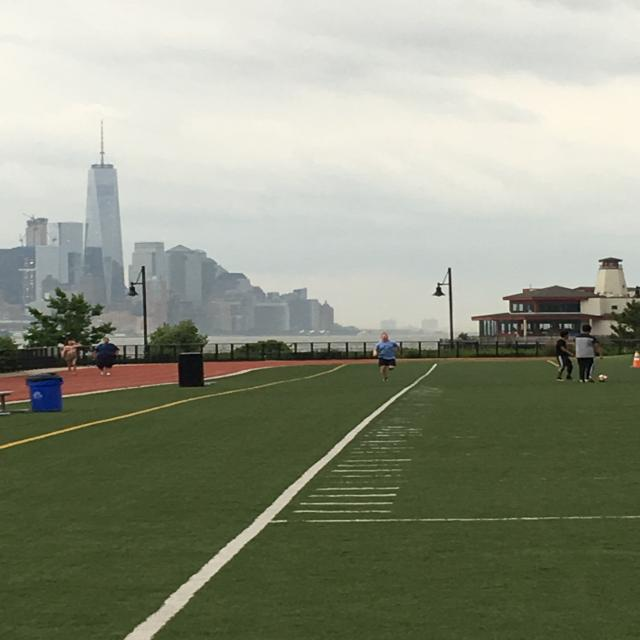WTC: (81, 121, 127, 302)
